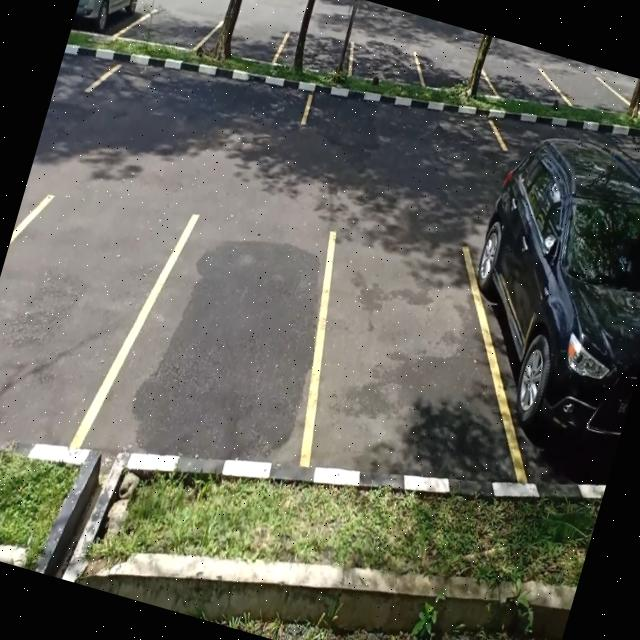empty: (104, 191, 346, 490), (279, 210, 513, 506), (0, 182, 162, 462), (92, 37, 314, 155), (299, 75, 509, 186), (273, 18, 360, 84), (125, 0, 218, 61), (410, 41, 494, 104), (200, 12, 288, 72), (346, 28, 426, 94), (480, 50, 560, 110), (551, 58, 627, 120), (616, 75, 640, 130)
occupied: (439, 195, 640, 496), (70, 0, 151, 45)
